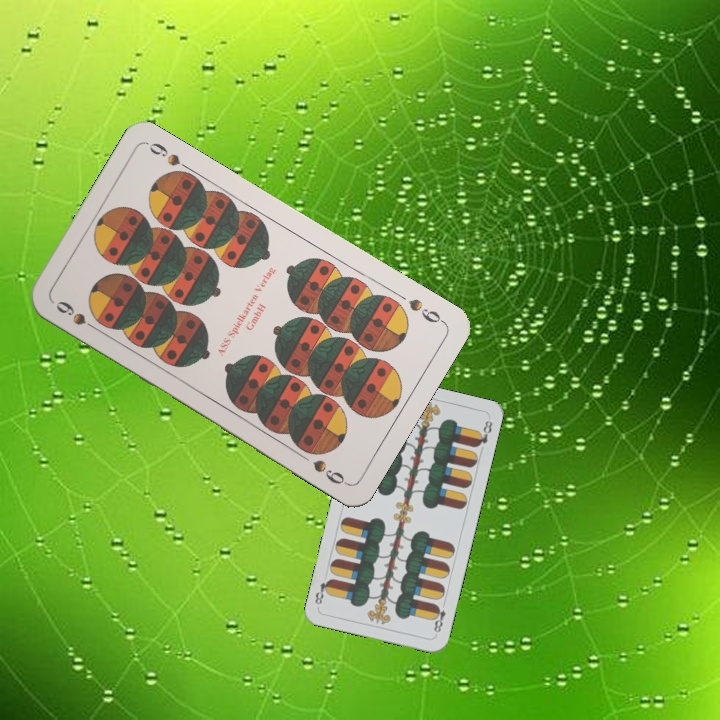E8: (429, 598, 448, 638)
S9: (51, 296, 103, 335), (404, 294, 447, 326)
